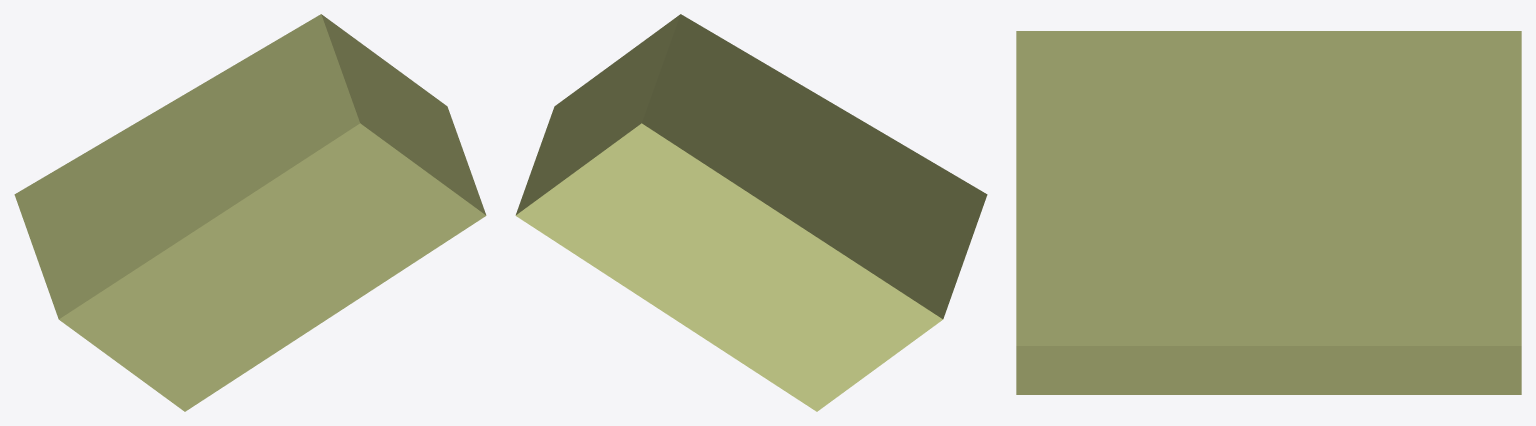
3 views of the same model, side by side, from view 1: azimuth 30°, elevation 25°; view 2: azimuth 150°, elevation 25°; view 3: azimuth 270°, elevation 25° (orthographic). The views are drawn at different scales.
Parts seen in each view (by area): view 1: 0_1_2_0_3_3_0_2_0_0_3; view 2: 0_1_2_0_3_3_0_2_0_0_3; view 3: 0_1_2_0_3_3_0_2_0_0_3.
Boxes of the visible parts, box(x1,y1,x2,y2) form: 0_1_2_0_3_3_0_2_0_0_3: box(14, 14, 486, 411); 0_1_2_0_3_3_0_2_0_0_3: box(515, 14, 987, 411); 0_1_2_0_3_3_0_2_0_0_3: box(1016, 31, 1521, 394).
Size of the model in its own units: 9.49 by 6.33 by 6.
